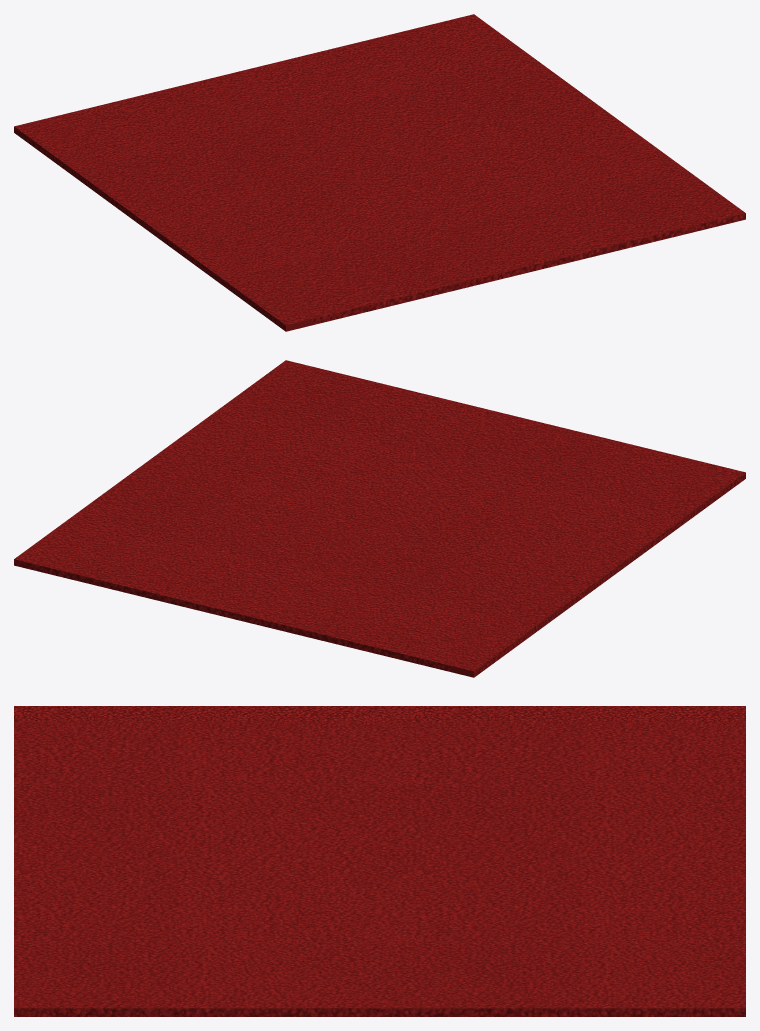
The model's file is Modulo alfombrafbx.fbx.
The picture shows the model from 3 angles, top to bottom: view 1: azimuth 30°, elevation 25°; view 2: azimuth 150°, elevation 25°; view 3: azimuth 270°, elevation 25°; orthographic projection. The views are drawn at different scales.
Visible parts, largest first — view 1: Alfombra; view 2: Alfombra; view 3: Alfombra.
Boxes of the visible parts, x1,y1,x2,y2 form: Alfombra: (14,14,745,331); Alfombra: (14,360,745,677); Alfombra: (14,706,745,1016).
Size of the model in its own units: 392 by 5.15 by 401.
2 materials, 1 textured.
